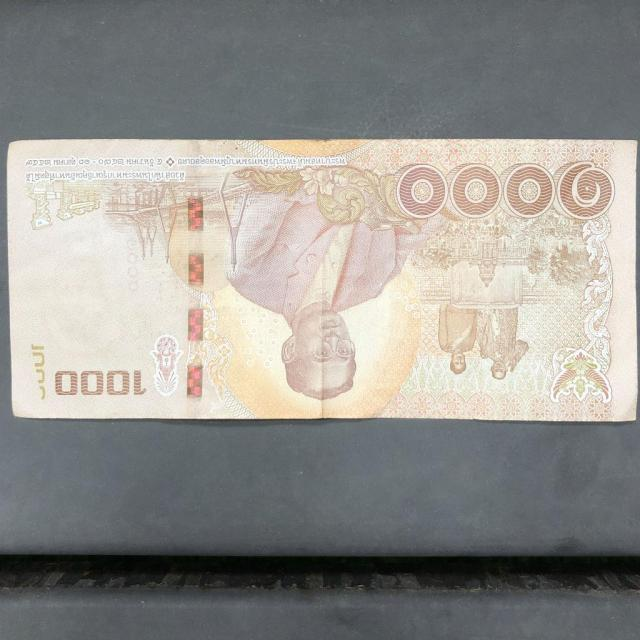THAI1000: (7, 139, 636, 422)
